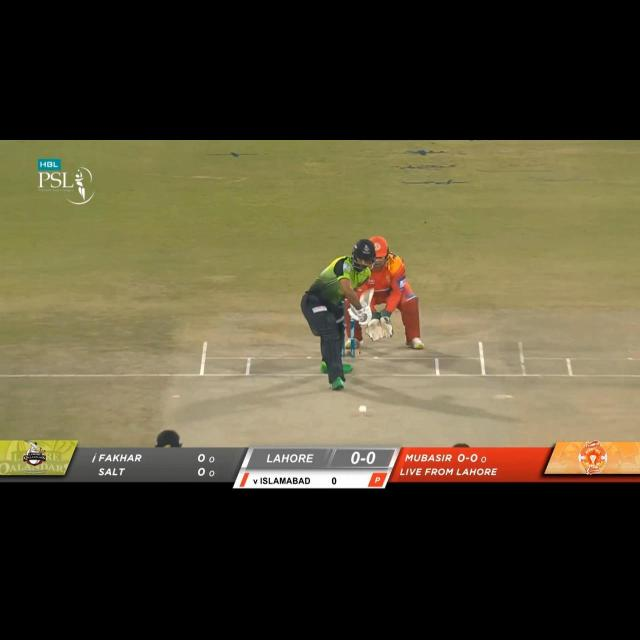bat: (358, 284, 376, 310)
toe: (362, 287, 377, 298)
